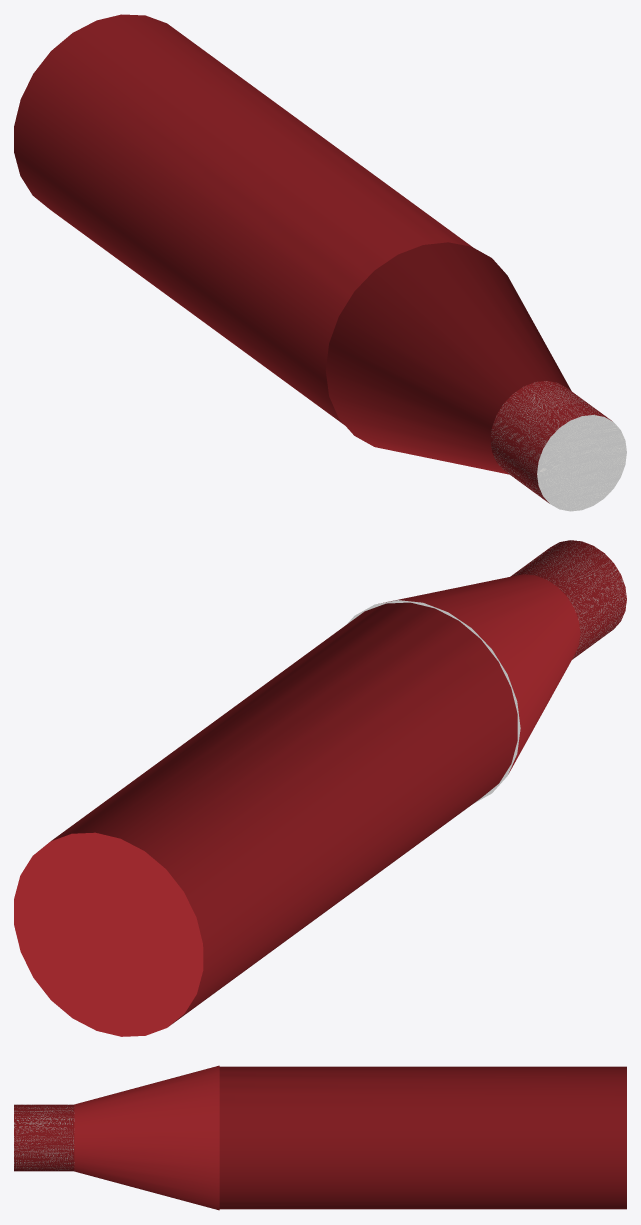
File: model_scale.obj
3 renders of one model, top to bottom at view 1: azimuth 30°, elevation 25°; view 2: azimuth 150°, elevation 25°; view 3: azimuth 270°, elevation 25°, orthographic. The views are drawn at different scales.
Visible parts, largest first — view 1: mesh1_mesh1-geometry; view 2: mesh1_mesh1-geometry; view 3: mesh1_mesh1-geometry.
Boxes of the visible parts, x1,y1,x2,y2 form: mesh1_mesh1-geometry: (14,14,626,511); mesh1_mesh1-geometry: (14,540,626,1036); mesh1_mesh1-geometry: (14,1065,626,1210).
Bounding box in the file's own units: 0.0619 × 0.0619 × 0.2605.
